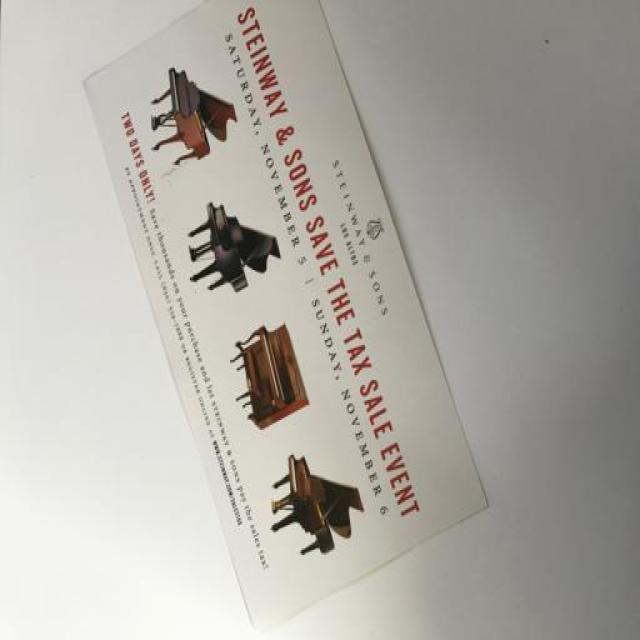paper: (66, 1, 508, 631)
